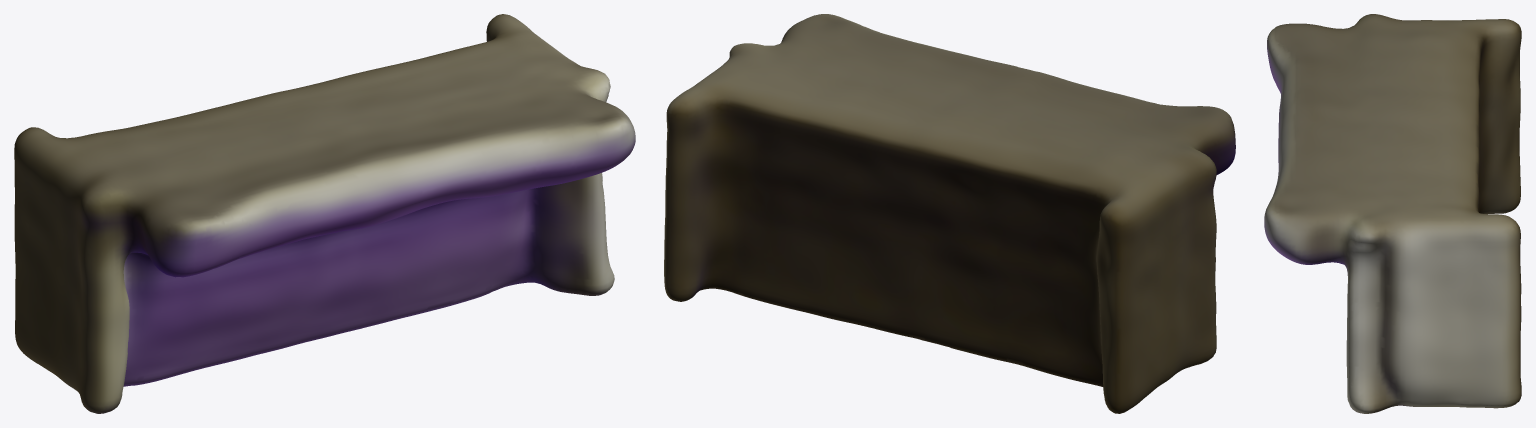
Rendered from sofa.glb.
The picture shows the model from 3 angles, left to right: view 1: azimuth 30°, elevation 25°; view 2: azimuth 150°, elevation 25°; view 3: azimuth 270°, elevation 25°; orthographic projection. The views are drawn at different scales.
Bounding box in the file's own units: 0.9984 × 0.4289 × 0.4913.
